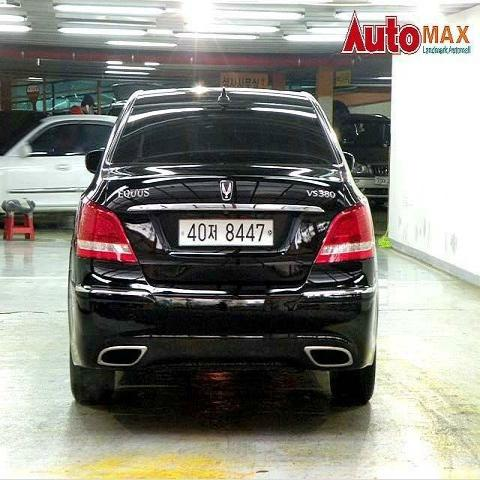LP: (178, 214, 276, 249)
